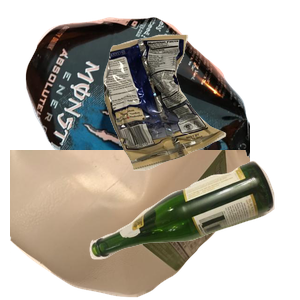glass: (87, 158, 300, 300)
metal: (23, 15, 263, 195)
plastic: (10, 150, 250, 300)
trash: (101, 32, 300, 195)
